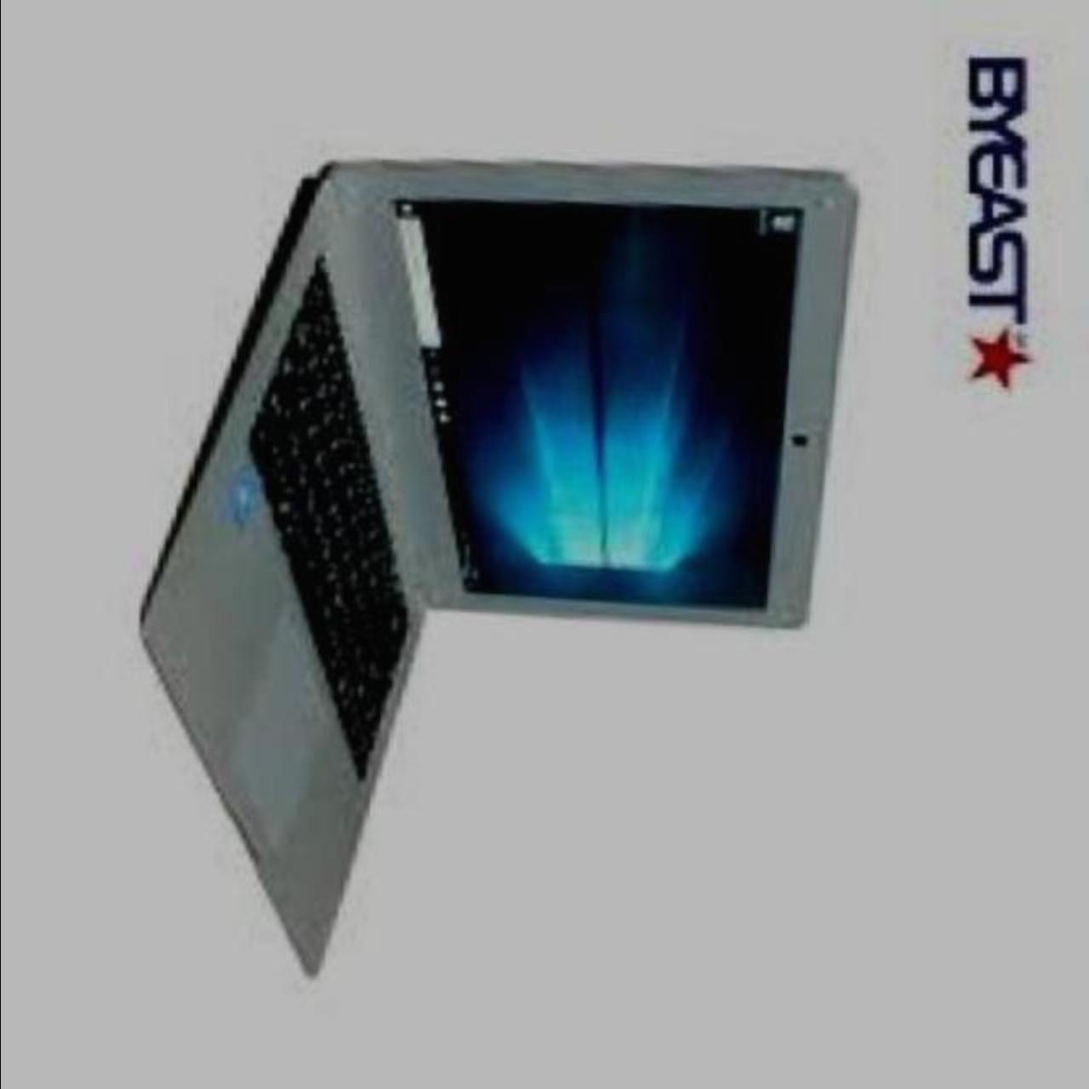laptop: (119, 66, 902, 1030)
